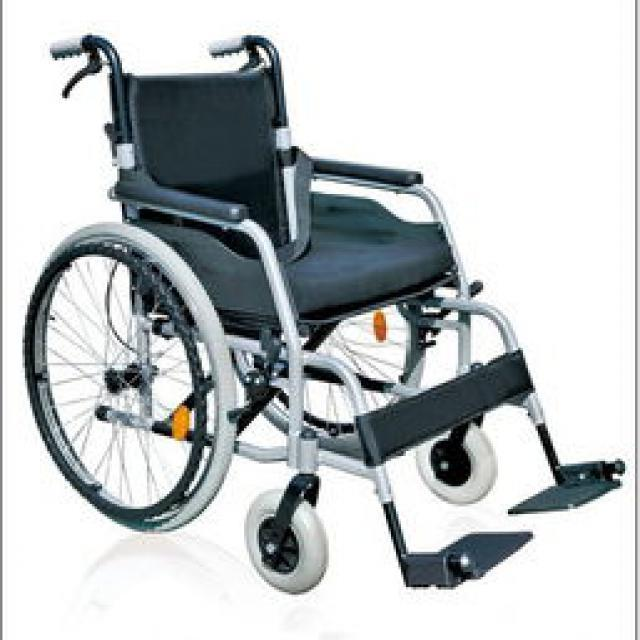wheelchair: (7, 20, 635, 600)
